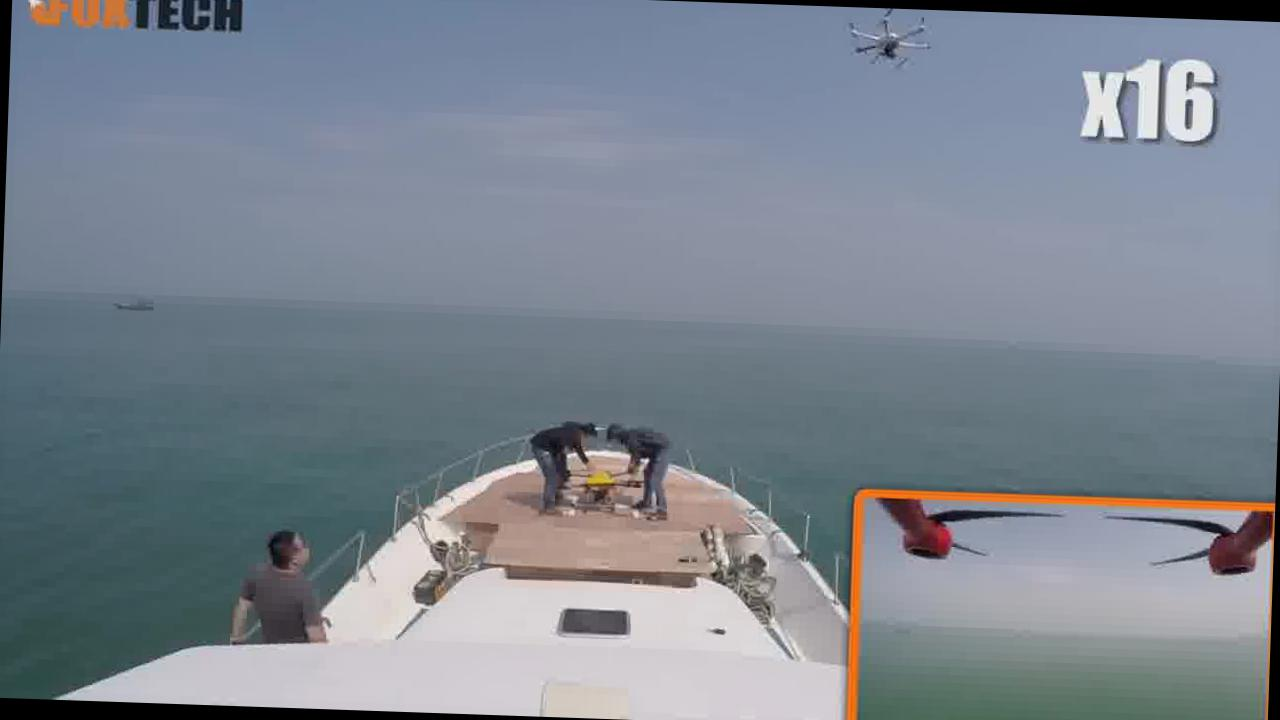drone: (842, 7, 935, 78)
